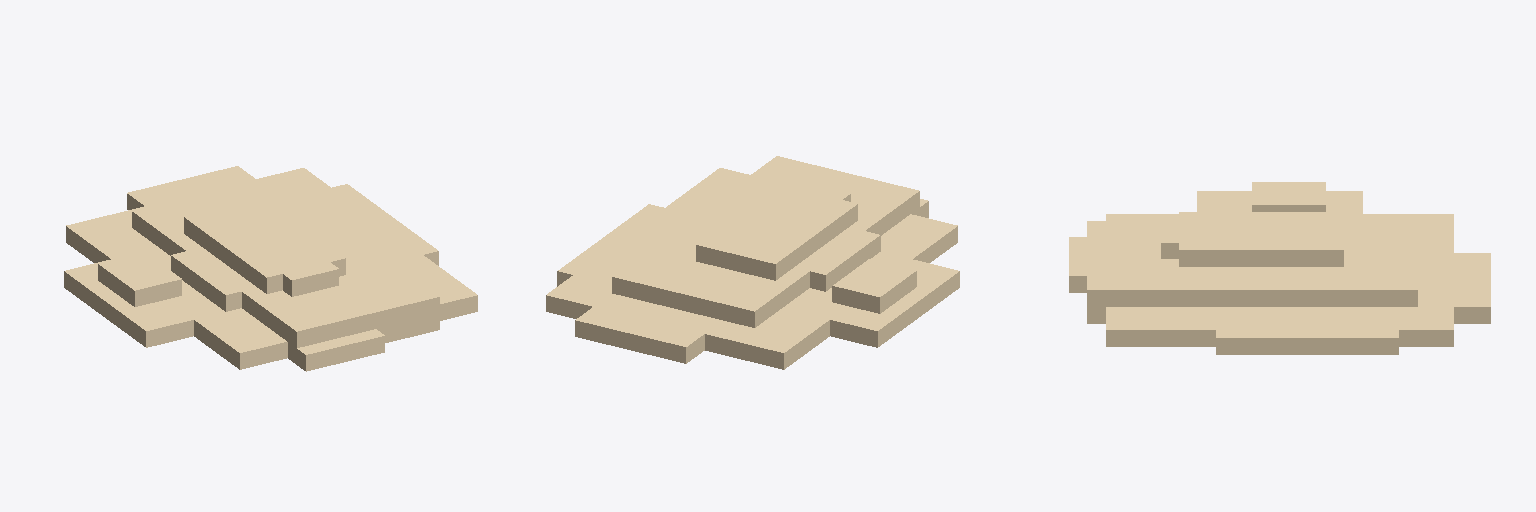
The picture shows the model from 3 angles: view 1: azimuth 30°, elevation 25°; view 2: azimuth 150°, elevation 25°; view 3: azimuth 270°, elevation 25°; orthographic projection.
Visible parts, largest first — view 1: Sand1; view 2: Sand1; view 3: Sand1.
Part boxes in pixels (bbox=[...]): Sand1: bbox=[64, 166, 477, 371]; Sand1: bbox=[546, 156, 959, 369]; Sand1: bbox=[1069, 182, 1490, 354].
Bounding box in the file's own units: 19 × 3 × 23.
1 materials, 1 textured.